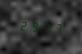nine: (29, 19, 39, 33)
seven: (40, 19, 50, 34), (51, 20, 61, 35)
two: (18, 18, 28, 33)
